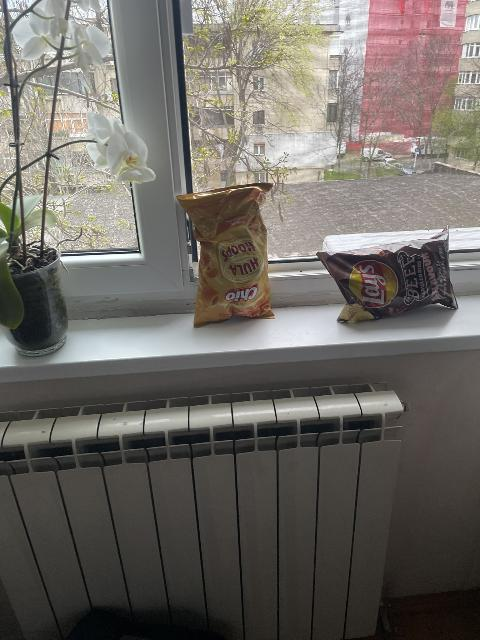Chio Hula Hoops Cheese 70g: (176, 185, 277, 325)
Lays Beef Grilled Ribs 125g: (317, 223, 453, 322)
